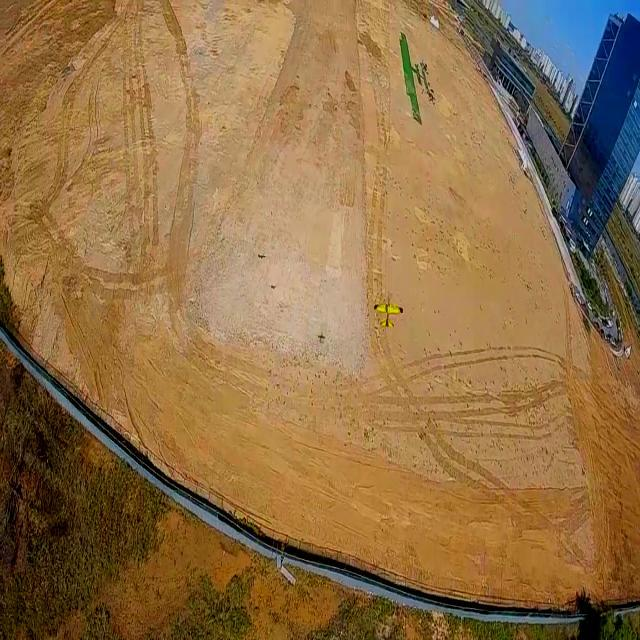iha: (372, 300, 406, 330)
